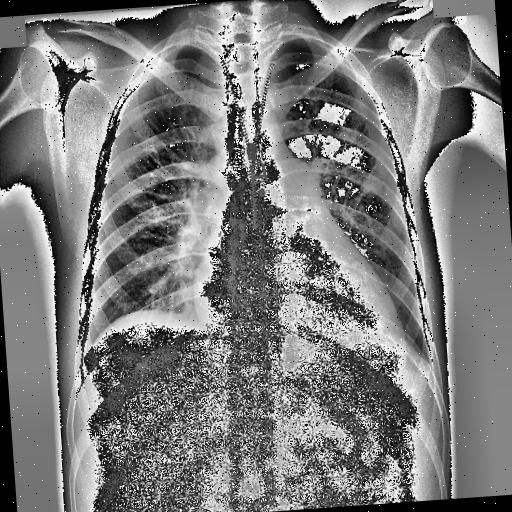3- Cardiomegaly: (190, 230, 406, 368), (187, 252, 404, 364), (190, 264, 408, 360)
